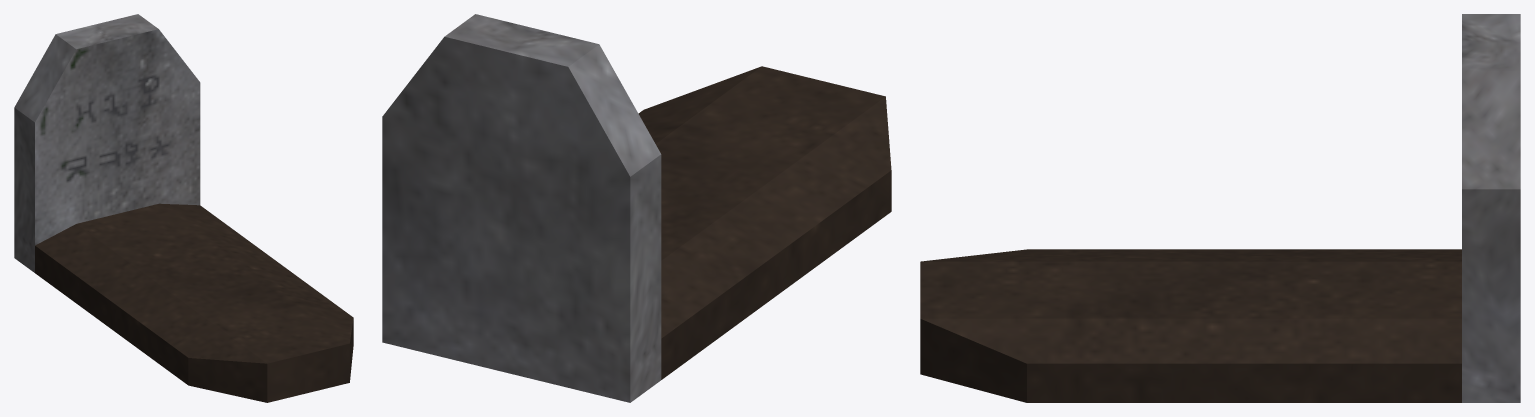
File: Grave.fbx
3 renders of one model, left to right at view 1: azimuth 30°, elevation 25°; view 2: azimuth 150°, elevation 25°; view 3: azimuth 270°, elevation 25°, orthographic. The views are drawn at different scales.
Visible parts, largest first — view 1: Grave; view 2: Grave; view 3: Grave.
Part boxes in pixels (box(x1,y1,x2,y2)): Grave: box(14, 14, 353, 402); Grave: box(382, 14, 891, 402); Grave: box(920, 14, 1520, 402).
Bounding box in the file's own units: 269 × 333 × 598.
